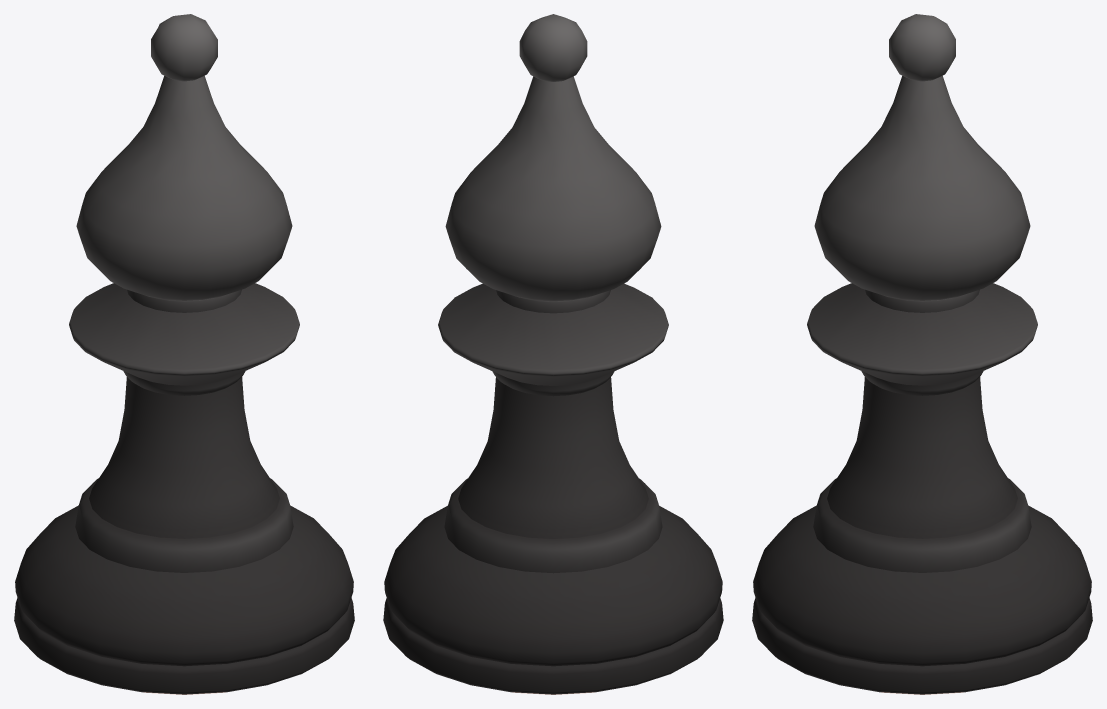
The model's file is Chess_Black_Bishop_01.glb.
3 renders of one model, left to right at view 1: azimuth 30°, elevation 25°; view 2: azimuth 150°, elevation 25°; view 3: azimuth 270°, elevation 25°, orthographic.
Visible parts, largest first — view 1: Chess_Black_Bishop_01; view 2: Chess_Black_Bishop_01; view 3: Chess_Black_Bishop_01.
Part boxes in pixels (x1,y1,x2,y2): Chess_Black_Bishop_01: [14, 14, 354, 694]; Chess_Black_Bishop_01: [383, 14, 723, 694]; Chess_Black_Bishop_01: [752, 14, 1092, 694].
Bounding box in the file's own units: 0.0364 × 0.0721 × 0.0364.
2 materials, 2 textured.
